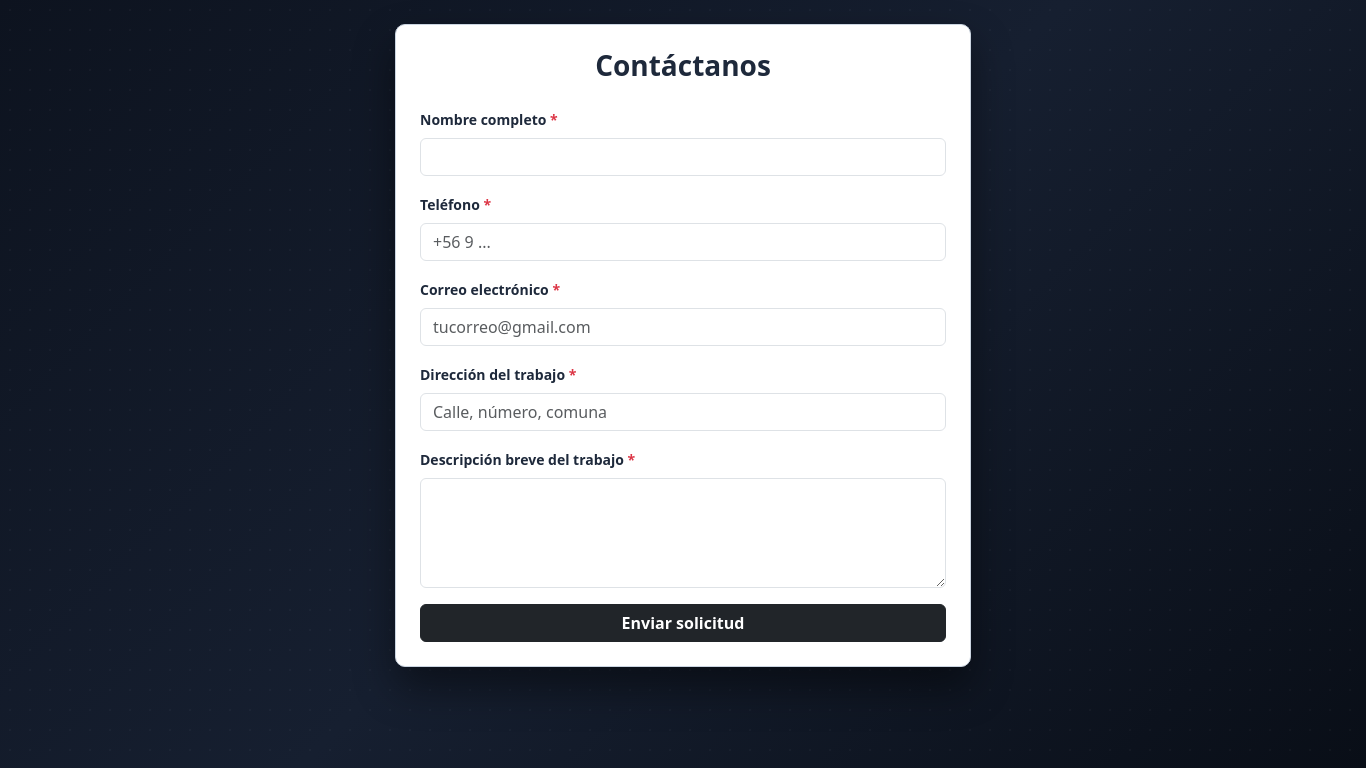
Test case: Pruebas de estado: Contacto › valida el teléfono con menos de 8 dígitos
In the field labelled "Teléfono *": (683, 242) [420,223,946,261], type "1234"
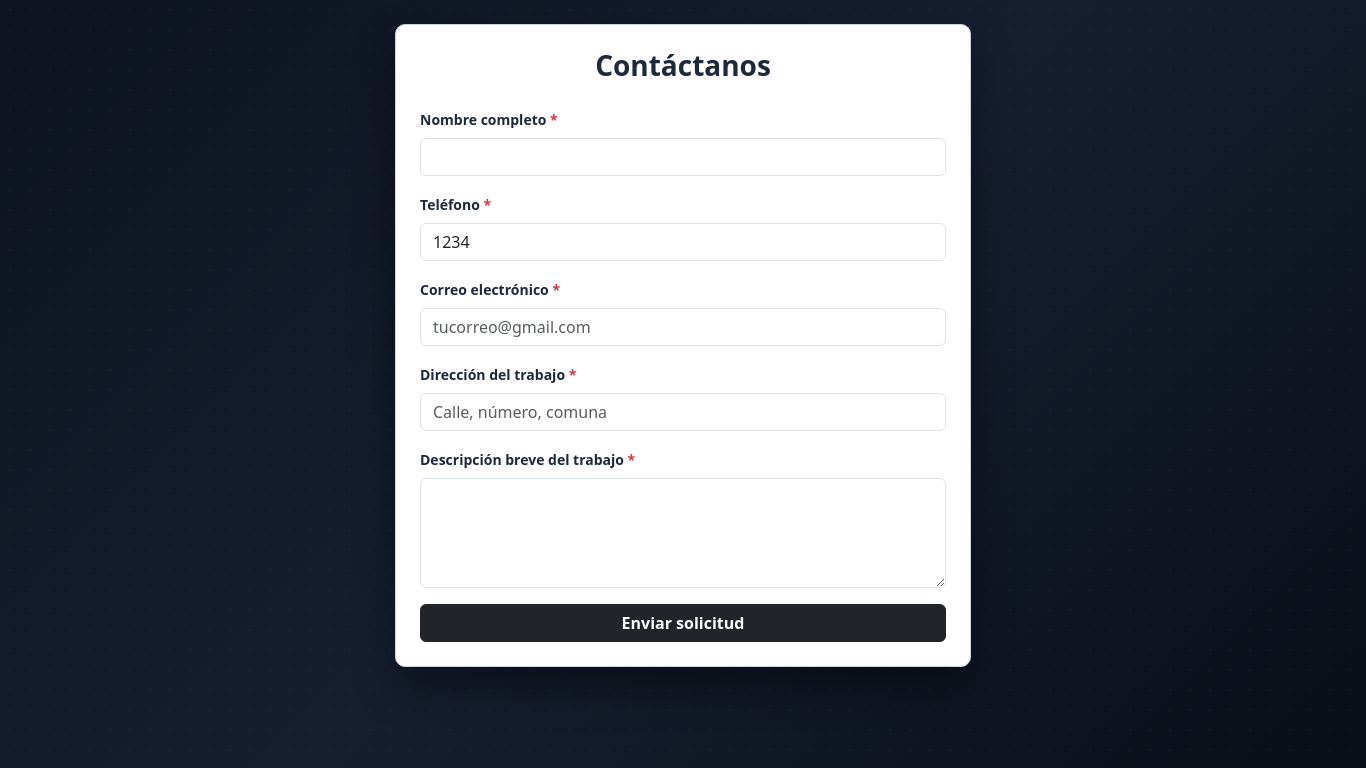
Click the button "Enviar solicitud": (683, 623) [420,604,946,642]
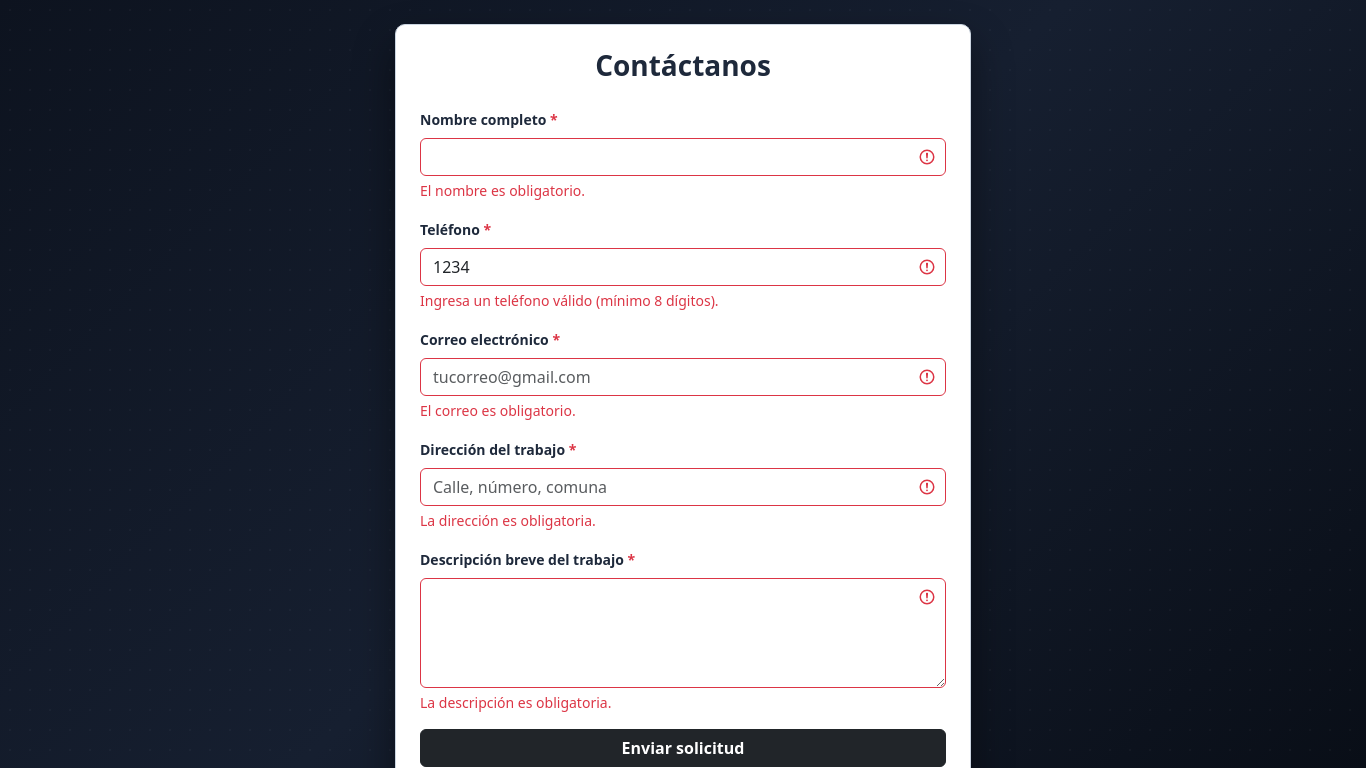
Check: the message with test id "error-telefono" shows "mínimo 8 dígitos", box [420,291,719,310]
